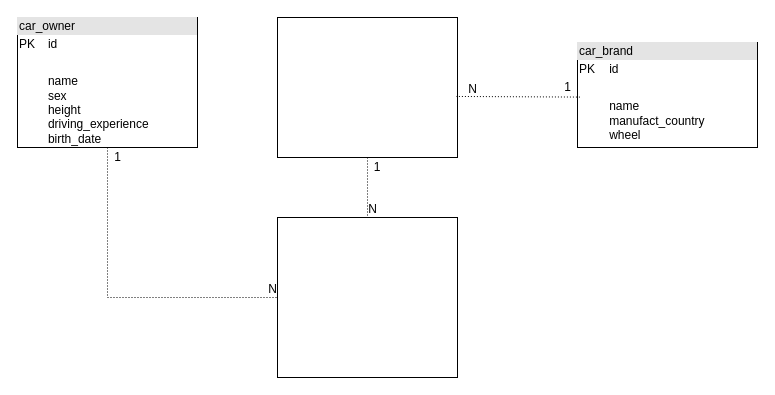
Some shapes in this 775 by 395 pixel diagram are drawn without their labels. Here are the shapes that lost their labels. From the top down, the box of each, then its label:
(276, 16, 458, 158): car_model PK id FK brand_id body_type engine gearbox seats_amount
(276, 216, 458, 378): car PK car_number FK model_id owner_id gear colour rooftype
